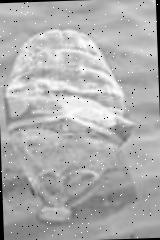plastic: (1, 25, 138, 222)
